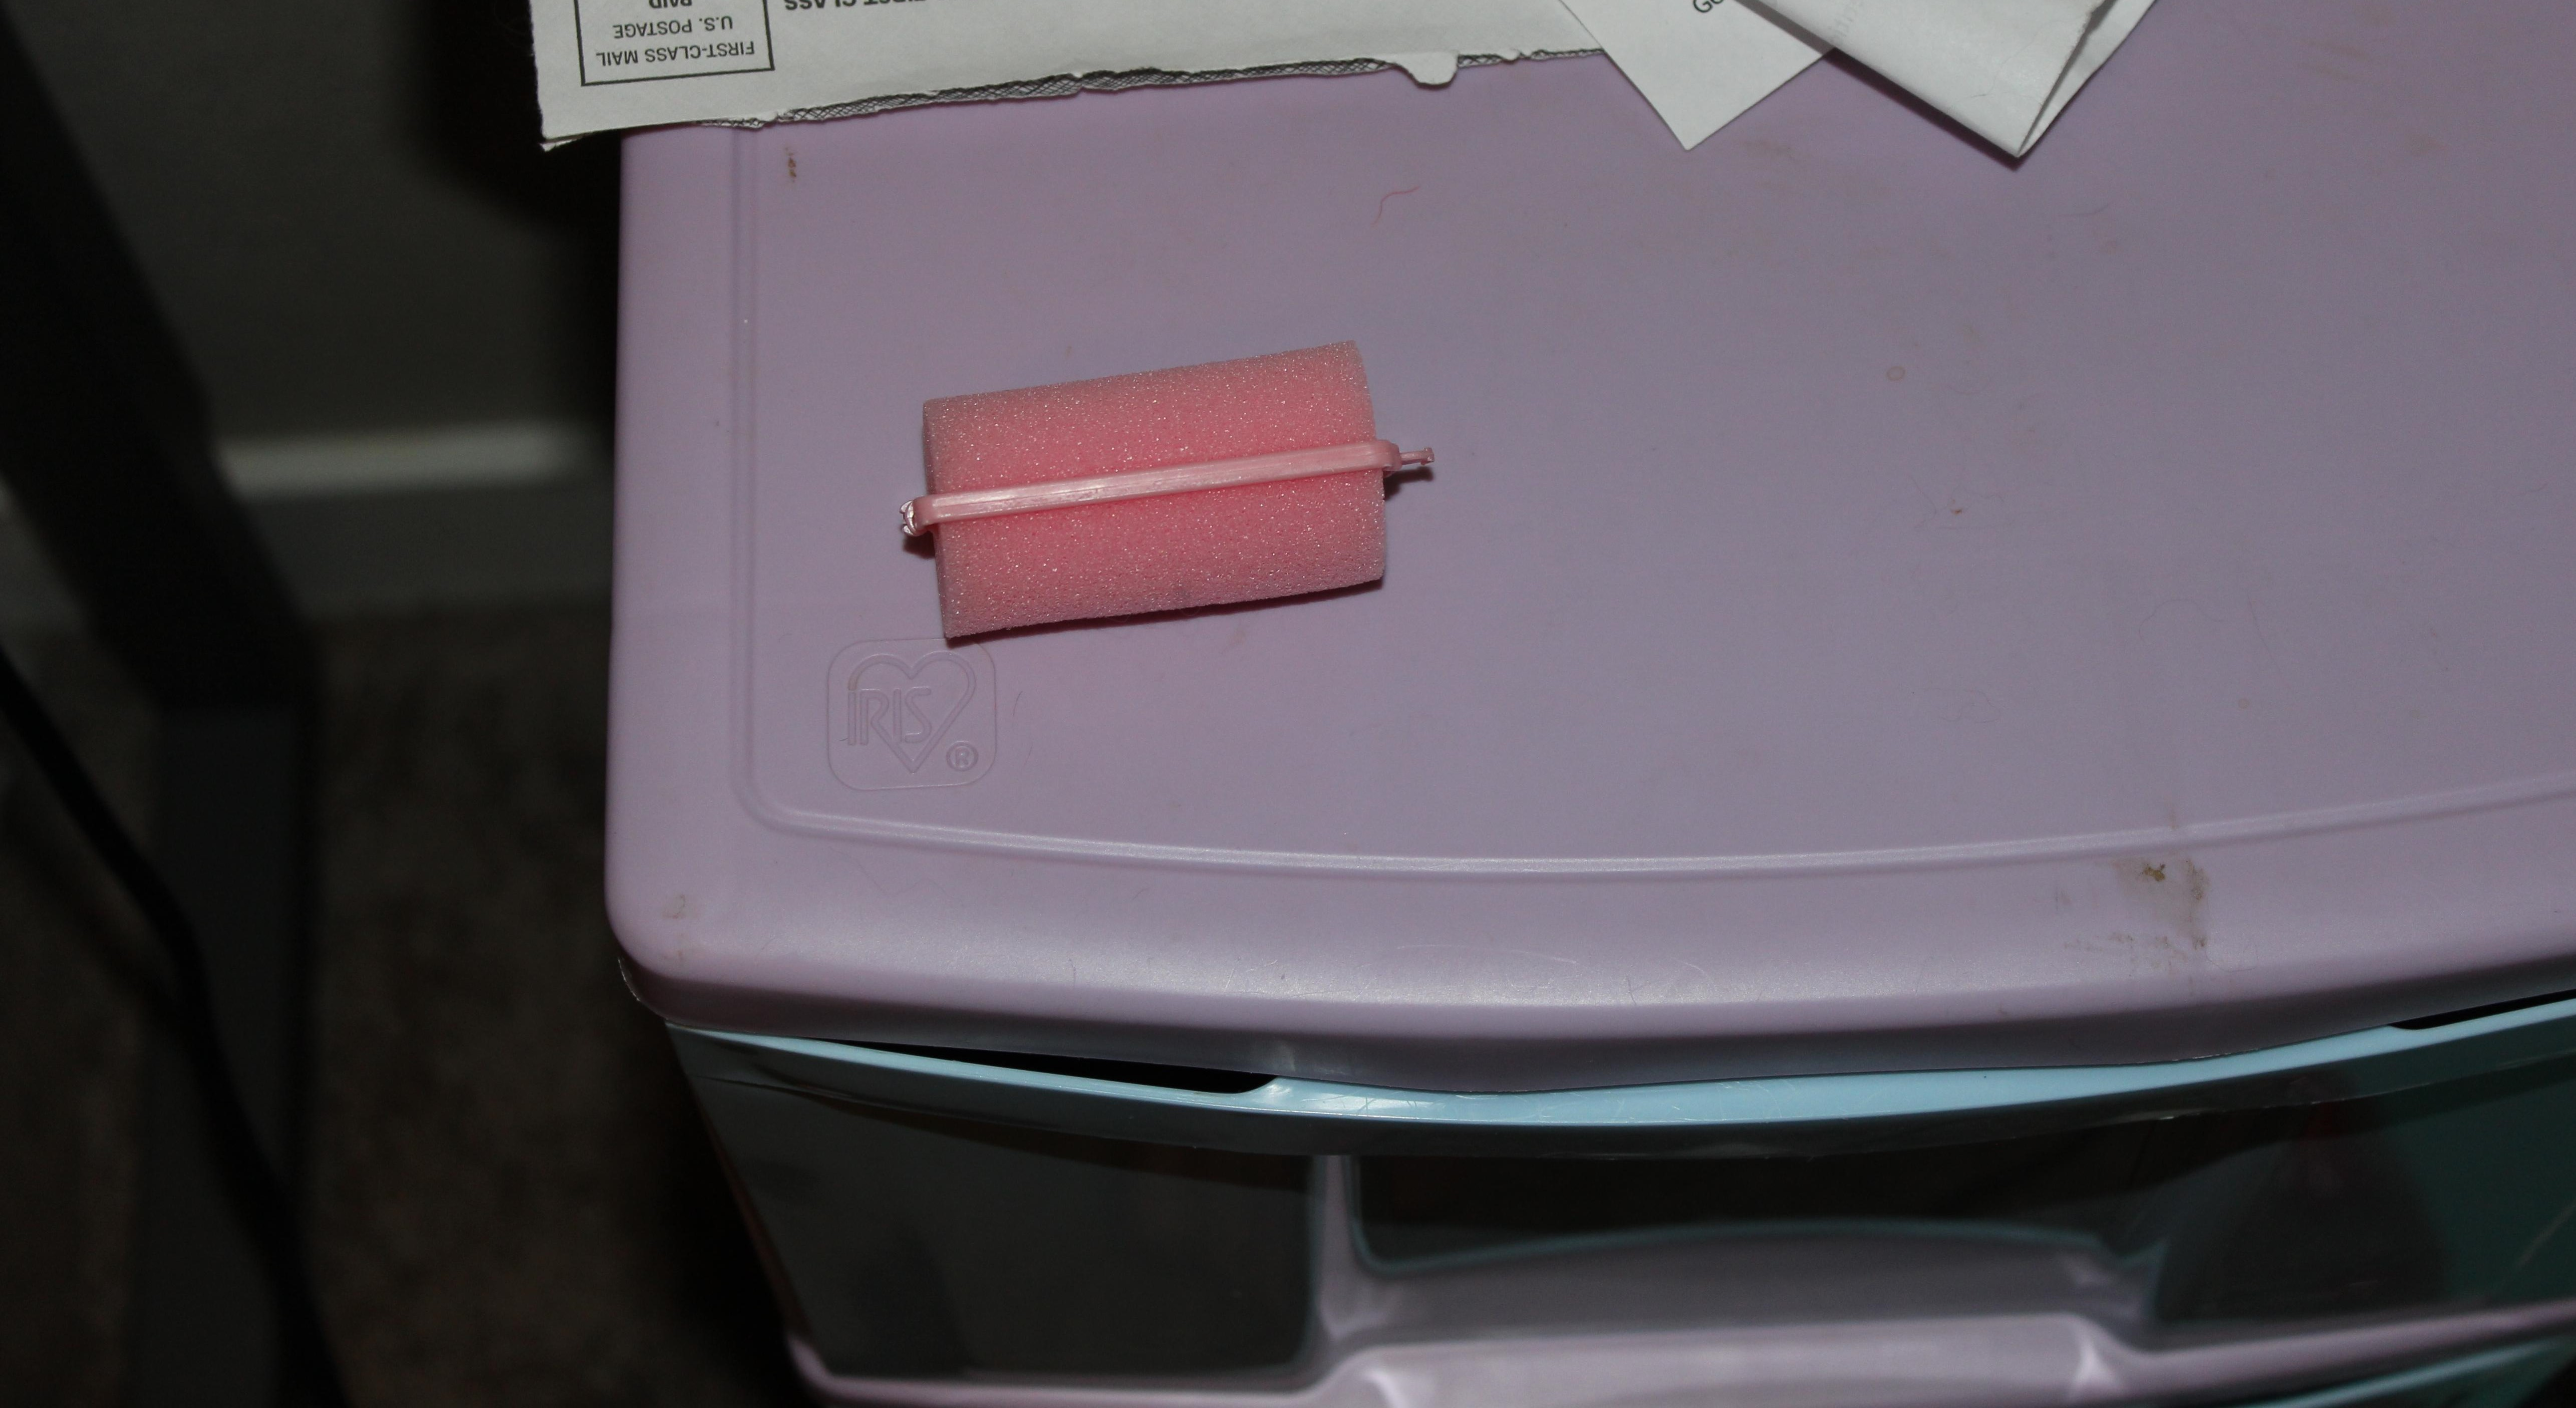hairRoller: (874, 310, 1472, 680)
